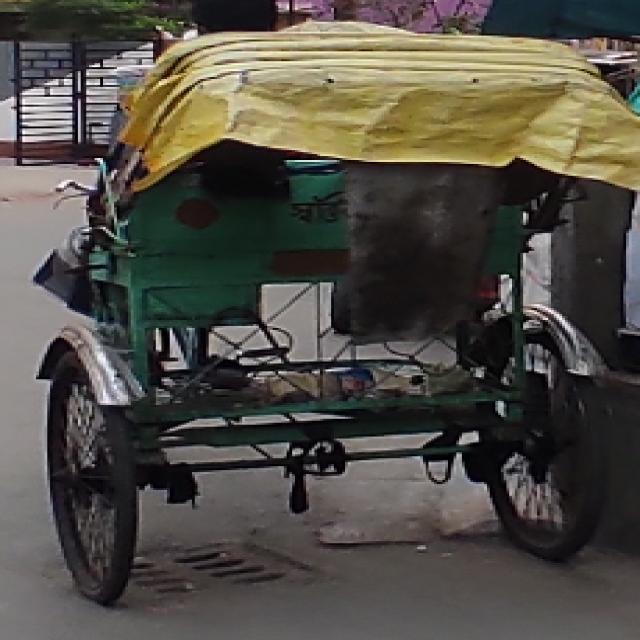rickshaw: (39, 23, 628, 612)
